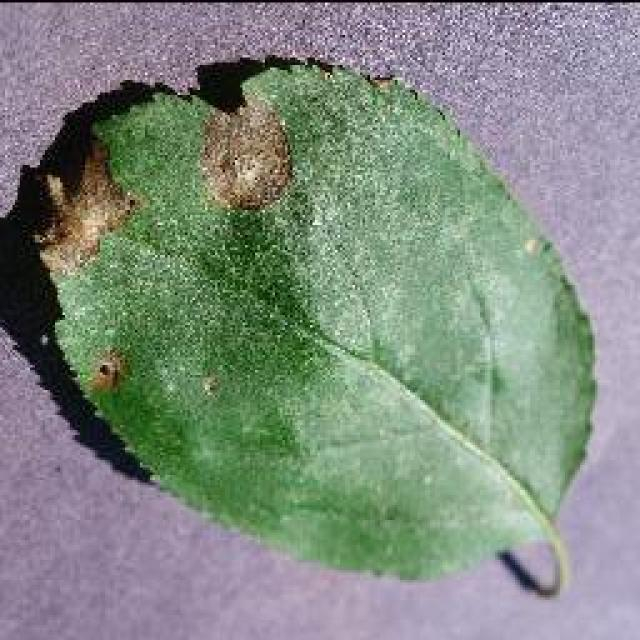Black_rot: (18, 53, 600, 595)
